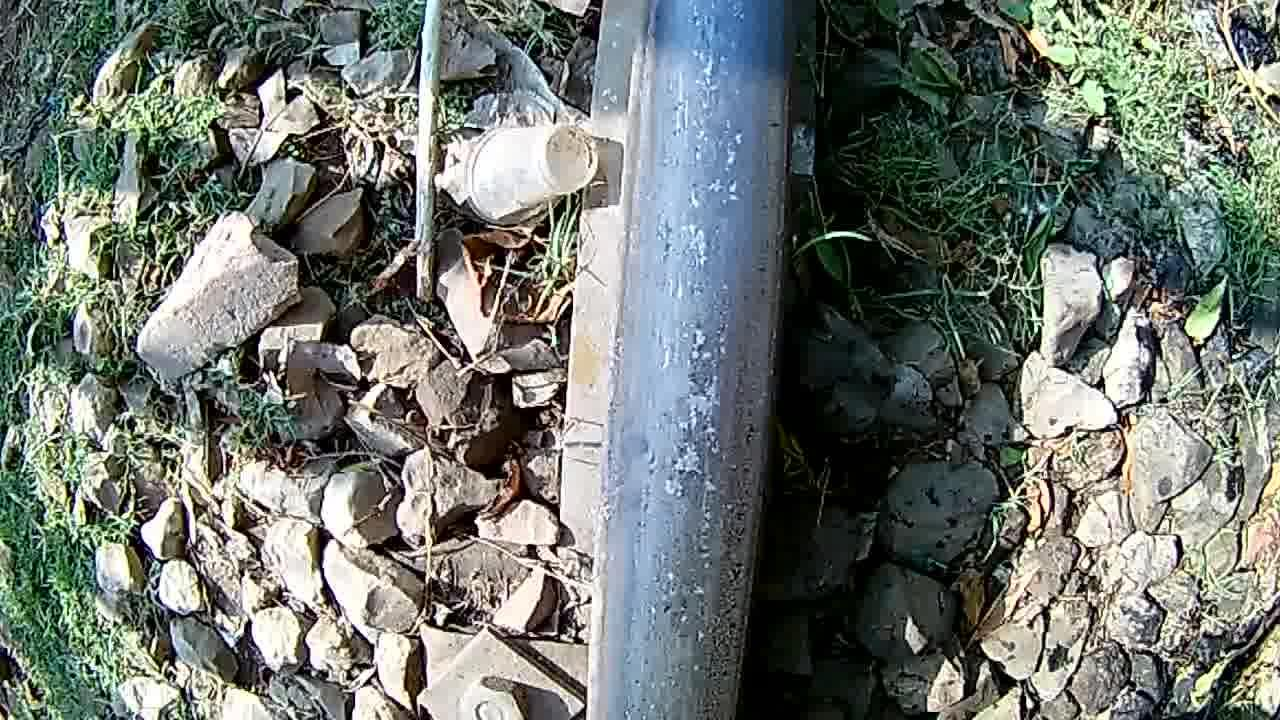clip_missing: (600, 3, 800, 720)
